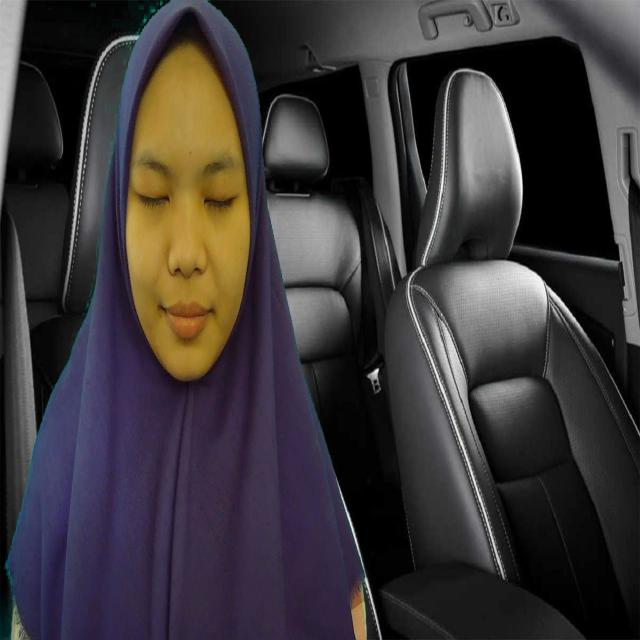no-seatbelt: (120, 24, 256, 386)
